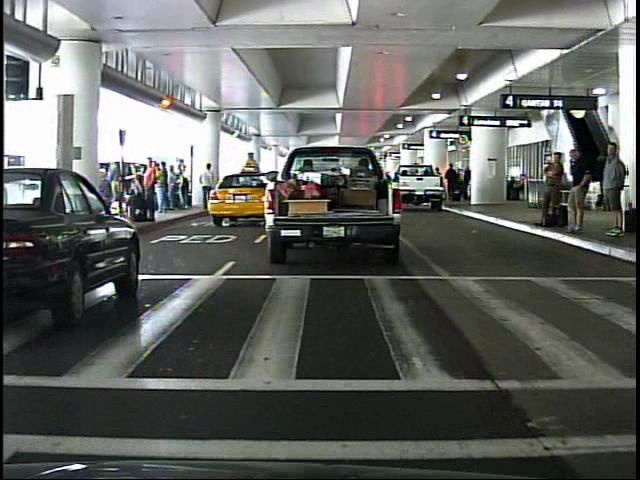person: (599, 138, 631, 243), (565, 143, 594, 238), (536, 146, 567, 234), (141, 156, 160, 224), (198, 161, 217, 214)
